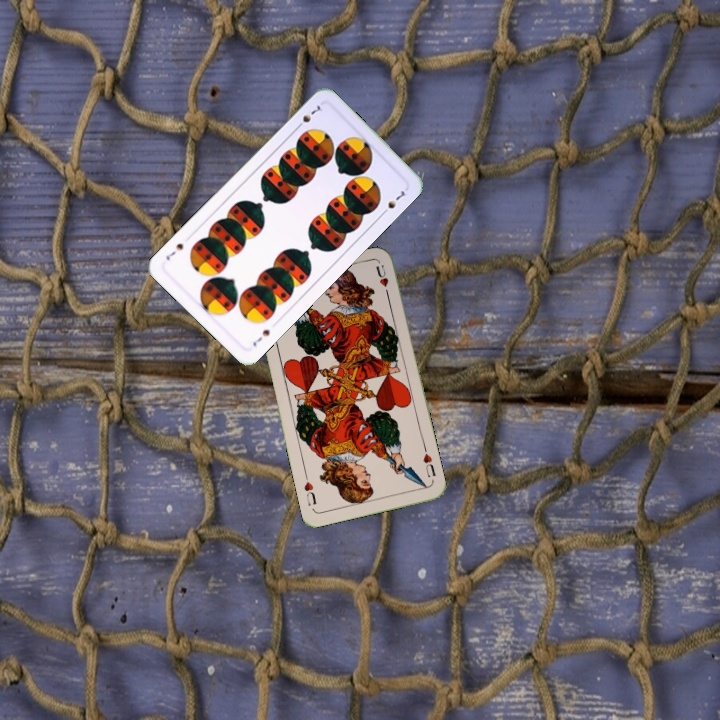HU: (419, 450, 438, 480)
S7: (292, 101, 325, 132), (249, 325, 272, 349)
